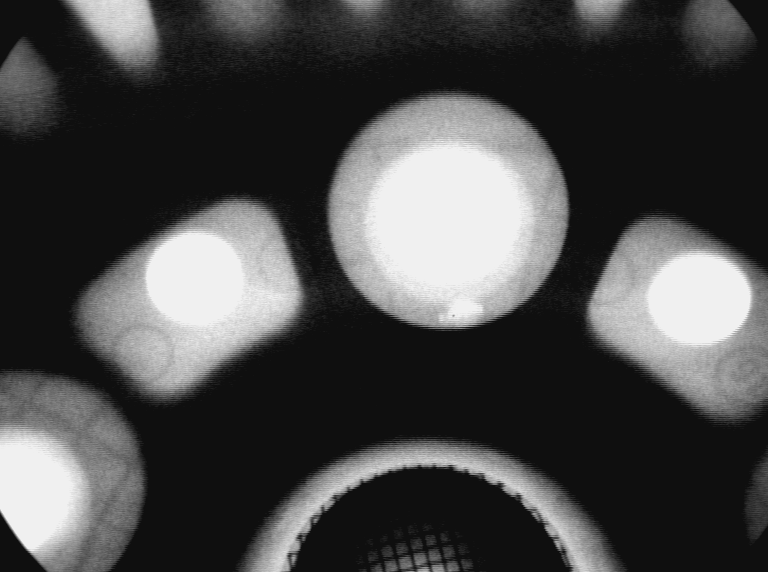defect: (431, 295, 490, 330)
